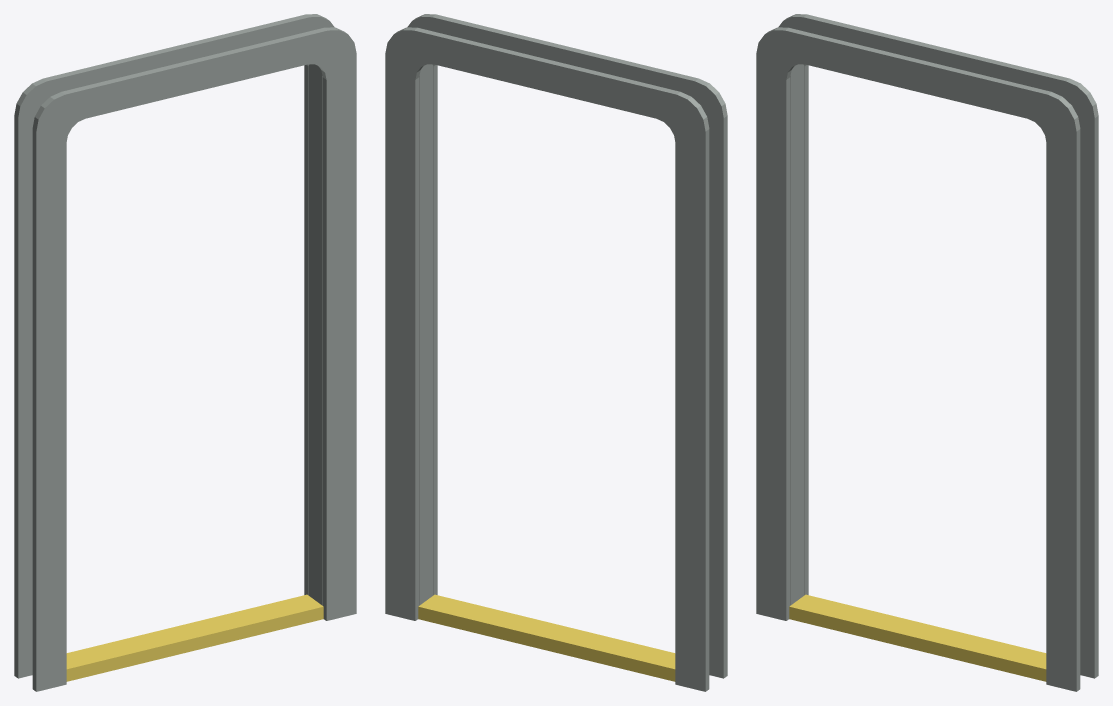
Rendered from kit_door_frame.fbx.
3 renders of one model, left to right at view 1: azimuth 30°, elevation 25°; view 2: azimuth 150°, elevation 25°; view 3: azimuth 330°, elevation 25°, orthographic.
Parts seen in each view (by area): view 1: kit_door_frame; view 2: kit_door_frame; view 3: kit_door_frame.
Boxes of the visible parts, x1=… form: kit_door_frame: x1=14, y1=14, x2=356, y2=691; kit_door_frame: x1=385, y1=14, x2=727, y2=691; kit_door_frame: x1=756, y1=14, x2=1098, y2=691.
Bounding box in the file's own units: 1.34 × 2.36 × 0.16.
